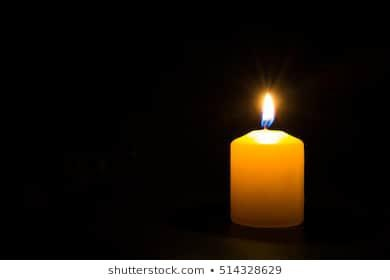fire: (258, 90, 278, 128)
